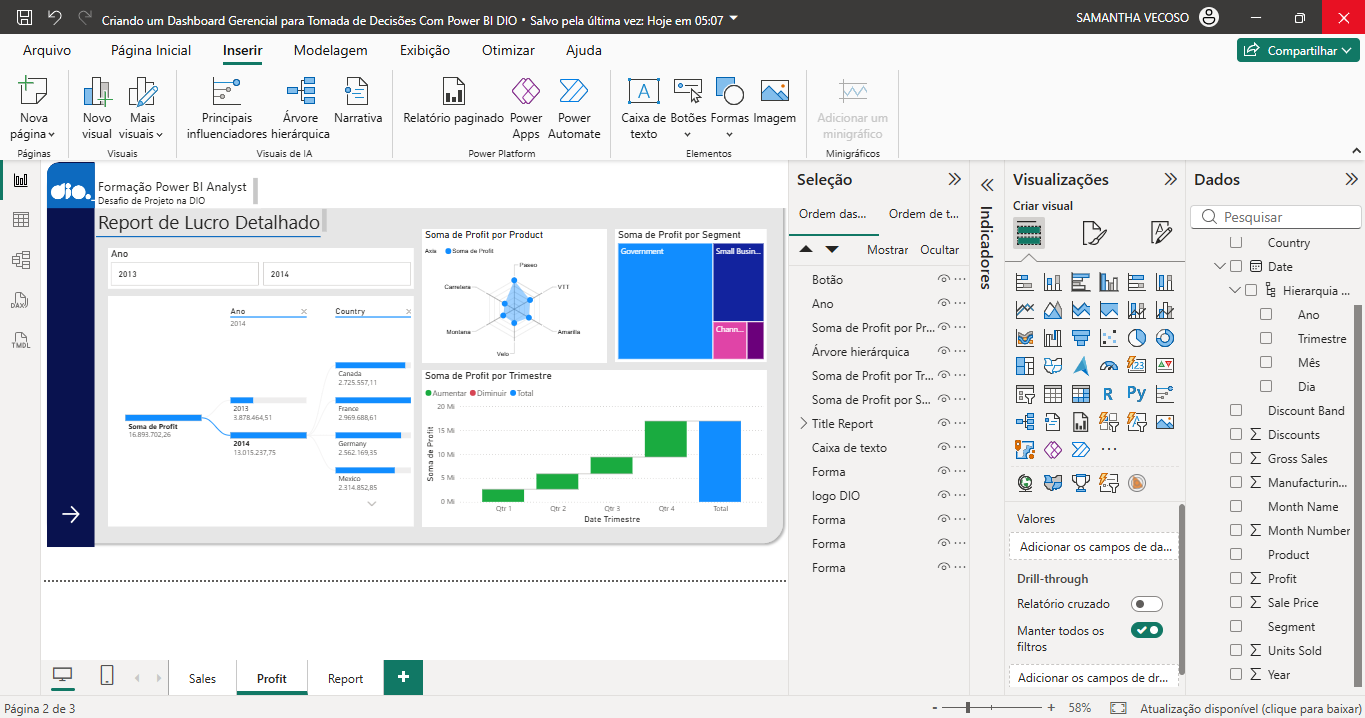

What the dashboard file says about the page in this screenshot:
{"tool":"powerbi","page":{"name":"Profit","canvas":[1280,720],"ordinal":1},"visuals":[{"type":"shape","box":[0,0,1280.5,665.9],"z":0},{"type":"textbox","box":[92.4,79.3,402.4,51.2],"z":0,"group":"g1"},{"type":"shape","box":[10.2,2.9,82,660],"z":1000},{"type":"shape","box":[94.2,7.6,384.9,248.8],"z":1000,"group":"g1"},{"type":"shape","box":[10.2,5.9,82,77.6],"z":2000},{"type":"image","title":"logo DIO","box":[10.2,16.1,92.2,77.6],"z":3000},{"type":"shape","box":[91.7,5.9,1188.3,77.6],"z":4000},{"type":"textbox","box":[92.2,26.3,283.9,57.1],"z":5000},{"type":"group","id":"g1","title":"Title Report","box":[92.4,7.6,403,248.5],"z":6000},{"type":"treemap","fields":{"Group":["financials.Segment"],"Values":["Sum(financials.Profit)"]},"box":[983.4,118.5,260.5,228.3],"z":7000},{"type":"waterfallChart","fields":{"Category":["financials.Date.Variation.Hierarquia de datas.Trimestre"],"Y":["Sum(financials.Profit)"]},"box":[652.7,360,591.2,269.3],"z":8000},{"type":"decompositionTreeVisual","fields":{"Analyze":["Sum(financials.Profit)"],"ExplainBy":["financials.Date.Variation.Hierarquia de datas.Ano","financials.Country"]},"box":[115.2,233.3,524.2,395.5],"z":9000},{"type":"RadarChart1446119667547","fields":{"Y":["Sum(financials.Profit)"],"Category":["financials.Product"]},"box":[652.7,118.5,316.1,228.3],"z":10000},{"type":"advancedSlicerVisual","fields":{"Values":["financials.Date.Variation.Hierarquia de datas.Ano"]},"box":[115.2,150,524.2,69.7],"z":11000},{"type":"actionButton","box":[30.7,588.3,39.5,39.5],"z":12000}]}

Visuals, with their boxes on the page's 1280x720 design canvas (x1, y1, x2, y2). These are canvas units, not pixel positions in the 1365x718 screenshot, which may show the page scaled, cropped or inside an application window:
shape: pyautogui.locateOnScreen(0, 0, 1280, 666)
textbox: pyautogui.locateOnScreen(92, 79, 495, 130)
shape: pyautogui.locateOnScreen(10, 3, 92, 663)
shape: pyautogui.locateOnScreen(94, 8, 479, 256)
shape: pyautogui.locateOnScreen(10, 6, 92, 84)
"logo DIO" image: pyautogui.locateOnScreen(10, 16, 102, 94)
shape: pyautogui.locateOnScreen(92, 6, 1280, 84)
textbox: pyautogui.locateOnScreen(92, 26, 376, 83)
"Title Report" group: pyautogui.locateOnScreen(92, 8, 495, 256)
treemap - financials.Segment x Sum(financials.Profit): pyautogui.locateOnScreen(983, 118, 1244, 347)
waterfallChart - financials.Date.Variation.Hierarquia de datas.Trimestre x Sum(financials.Profit): pyautogui.locateOnScreen(653, 360, 1244, 629)
decompositionTreeVisual - Sum(financials.Profit) x financials.Date.Variation.Hierarquia de datas.Ano: pyautogui.locateOnScreen(115, 233, 639, 629)
RadarChart1446119667547 - Sum(financials.Profit) x financials.Product: pyautogui.locateOnScreen(653, 118, 969, 347)
advancedSlicerVisual - financials.Date.Variation.Hierarquia de datas.Ano: pyautogui.locateOnScreen(115, 150, 639, 220)
actionButton: pyautogui.locateOnScreen(31, 588, 70, 628)
